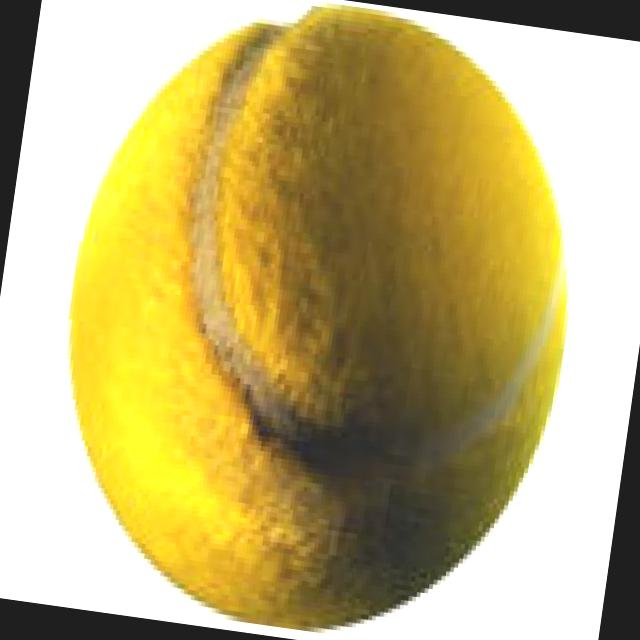Tennis Ball: (67, 2, 575, 635)
